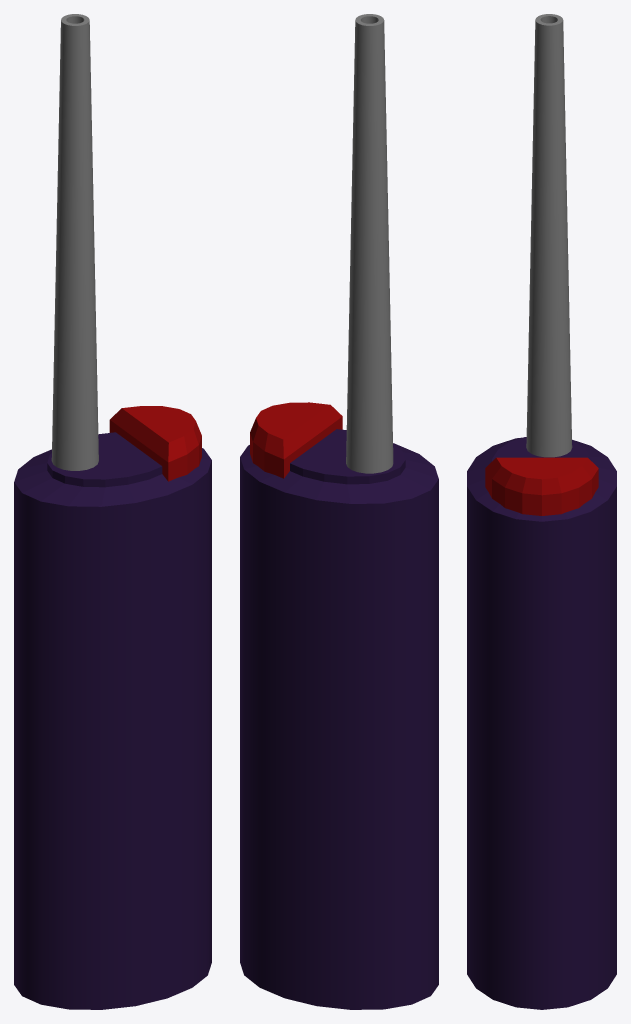
File: LighterHigh.fbx
3 views of the same model, side by side, from view 1: azimuth 30°, elevation 25°; view 2: azimuth 150°, elevation 25°; view 3: azimuth 270°, elevation 25° (orthographic). The views are drawn at different scales.
Visible parts, largest first — view 1: Cylinder012, Tube005; view 2: Cylinder012, Tube005; view 3: Cylinder012, Tube005.
Boxes of the visible parts, x1,y1,x2,y2 form: Cylinder012: (14,406,211,1009); Tube005: (51,14,98,470); Cylinder012: (240,402,438,1009); Tube005: (346,14,393,473); Cylinder012: (467,437,616,1009); Tube005: (526,14,572,457).
Size of the model in its own units: 7.61 by 38.39 by 5.6.
